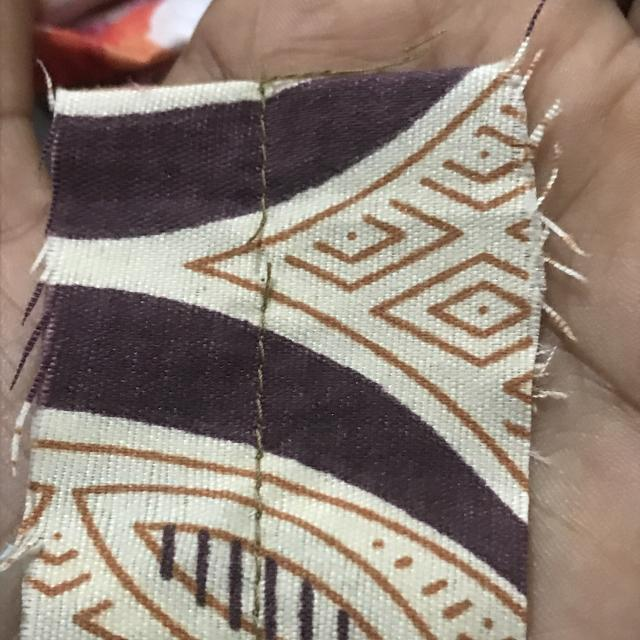broken: (230, 193, 291, 311)
good: (222, 338, 282, 481)
